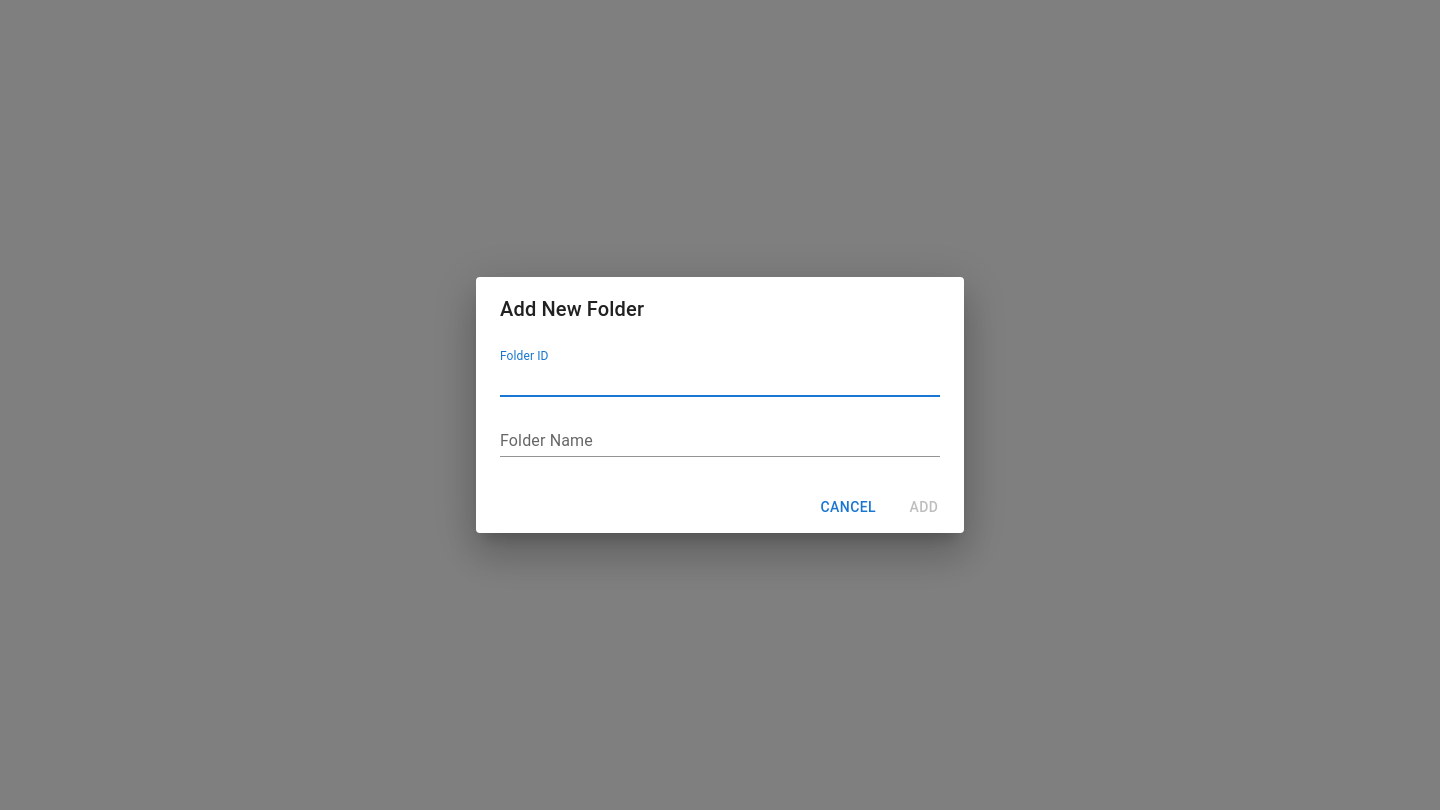
FolderManagement › フォルダIDがフォルダでない場合にエラーが表示される
This screenshot has width=1440, height=810.
In the password field labelled "Folder ID": (720, 381) 500,365 -> 940,397, type "file-id-not-folder"
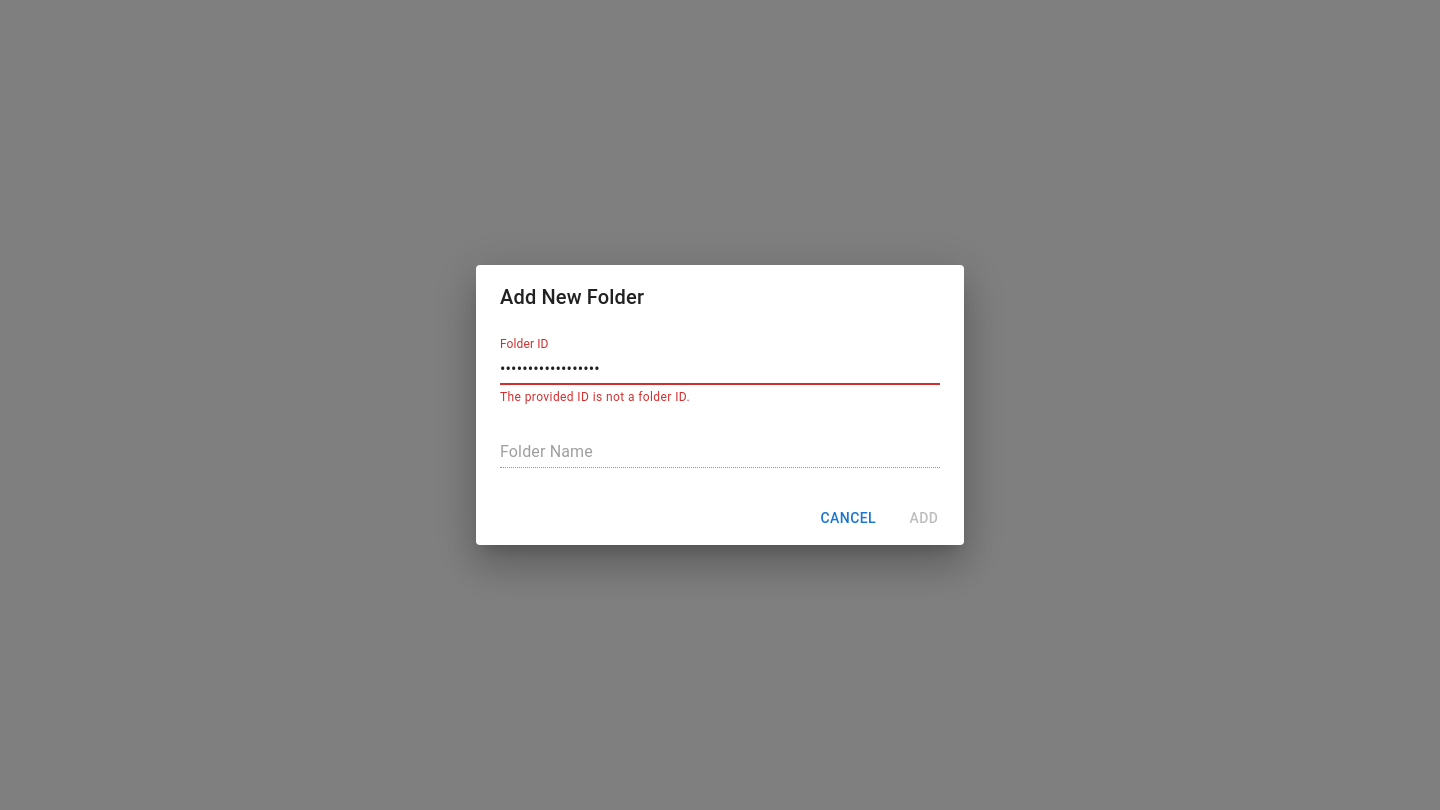
Expected: the button "Add" is disabled, 892,500 -> 956,537
Expected: the text "The provided ID is not a folder ID." is shown, 500,390 -> 690,404
